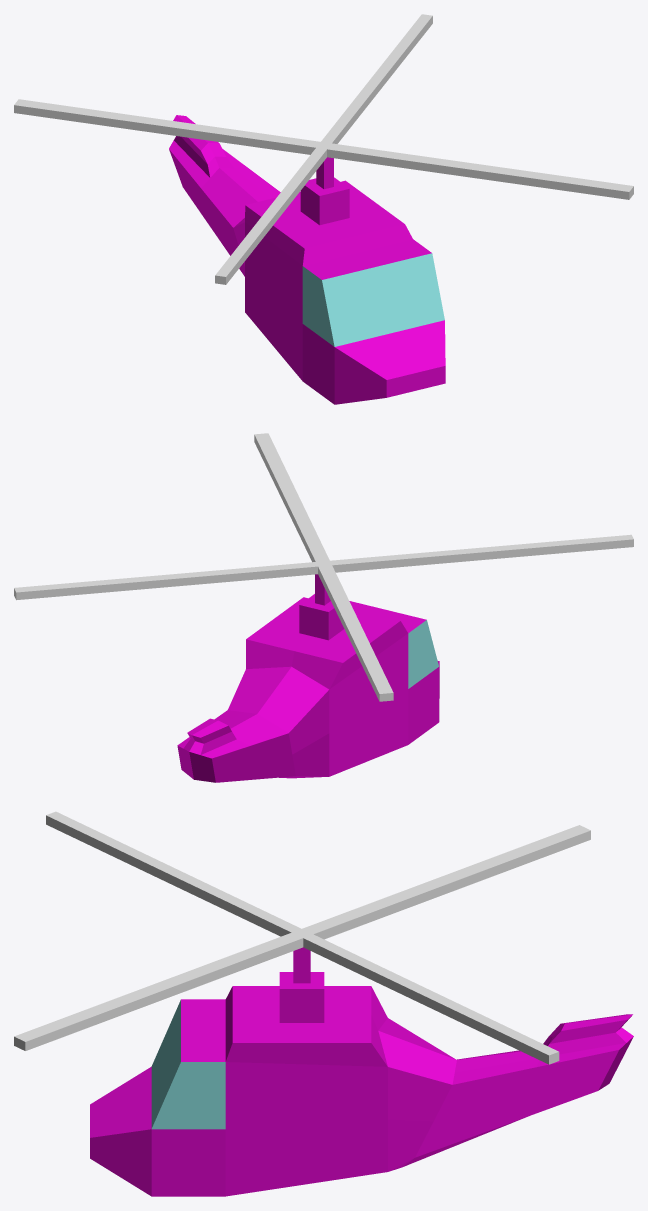
Rendered from lameheli.fbx.
3 renders of one model, top to bottom at view 1: azimuth 30°, elevation 25°; view 2: azimuth 150°, elevation 25°; view 3: azimuth 270°, elevation 25°, orthographic. The views are drawn at different scales.
Parts seen in each view (by area): view 1: Helicopter Body, Blades; view 2: Helicopter Body, Blades; view 3: Helicopter Body, Blades.
Part boxes in pixels (x1,y1,x2,y2): Helicopter Body: (169, 115, 445, 404); Blades: (14, 14, 633, 284); Helicopter Body: (177, 574, 439, 782); Blades: (14, 433, 633, 701); Helicopter Body: (90, 947, 633, 1196); Blades: (14, 811, 590, 1064).
Bounding box in the file's own units: 778 × 344 × 836.
